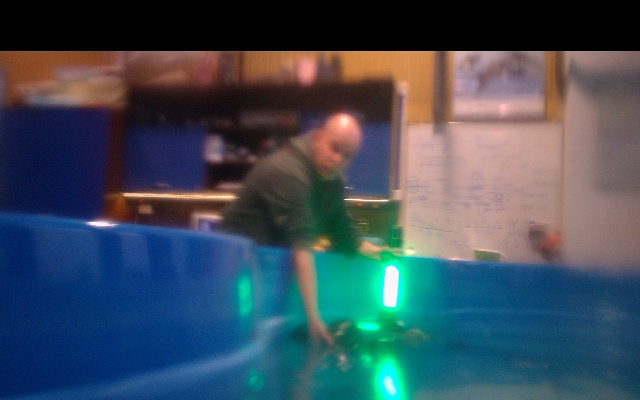green: (382, 259, 400, 320)
